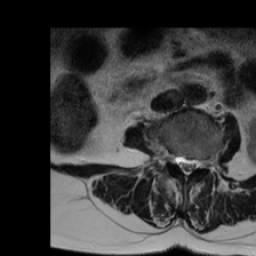CCS_normal: (183, 151, 191, 184)
LFS_normal: (201, 152, 208, 174)
LLS_normal: (191, 152, 200, 174)
RFS_normal: (167, 149, 176, 168)
RLS_normal: (175, 147, 183, 173)
